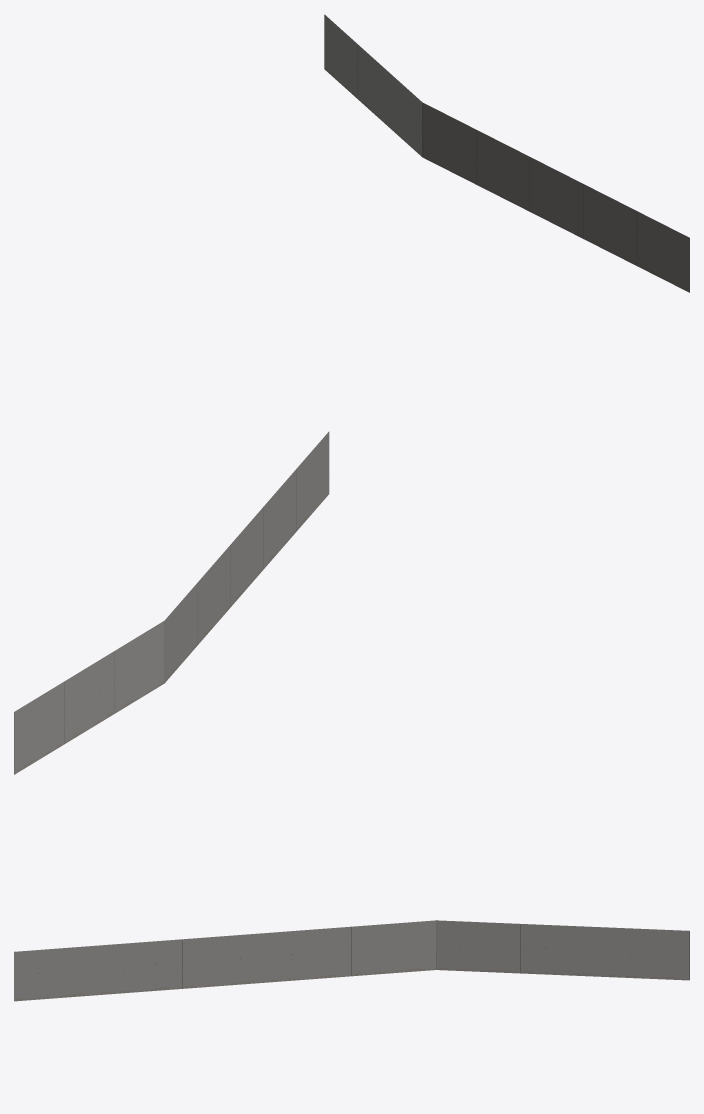
Rendered from kd_stage_13612f_4_18_bounded.glb.
3 views of the same model, one above another, from view 1: azimuth 30°, elevation 25°; view 2: azimuth 150°, elevation 25°; view 3: azimuth 270°, elevation 25° (orthographic). The views are drawn at different scales.
Parts seen in each view (by area): view 1: kd_stage_13612f_4_18_bounded; view 2: kd_stage_13612f_4_18_bounded; view 3: kd_stage_13612f_4_18_bounded.
Part boxes in pixels (x1=…): kd_stage_13612f_4_18_bounded: x1=324, y1=14, x2=689, y2=292; kd_stage_13612f_4_18_bounded: x1=14, y1=431, x2=329, y2=774; kd_stage_13612f_4_18_bounded: x1=14, y1=920, x2=689, y2=1001.
Size of the model in its own units: 11.62 by 2 by 24.68.
Materials: 1 (1 with a texture image).
